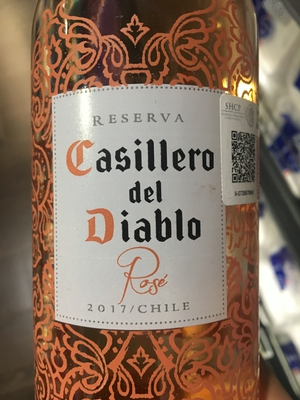casillero del diablo rose: (24, 11, 268, 395)
